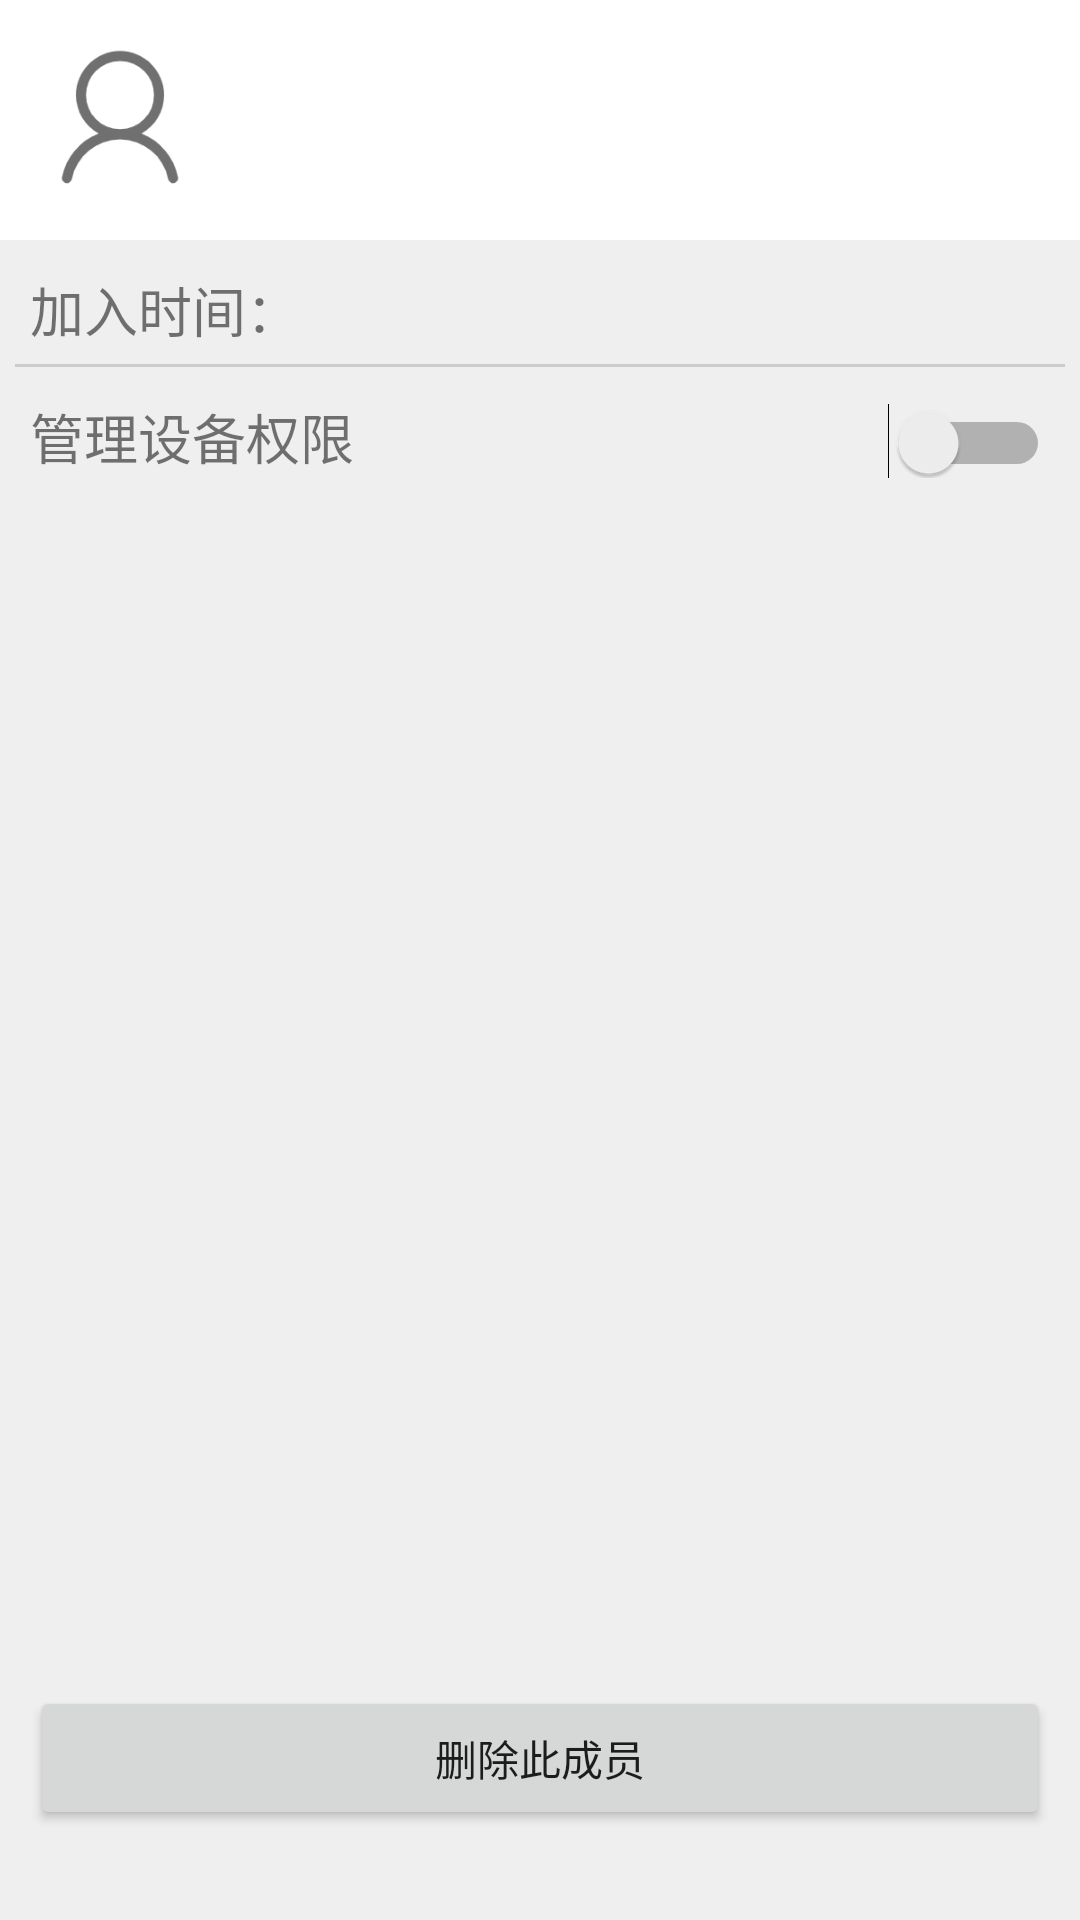

Locate icon controls on the screen. Image size 1080*1920, boxes as (x1, y1, x2, y2).
unlogin: (61, 50, 179, 184)
